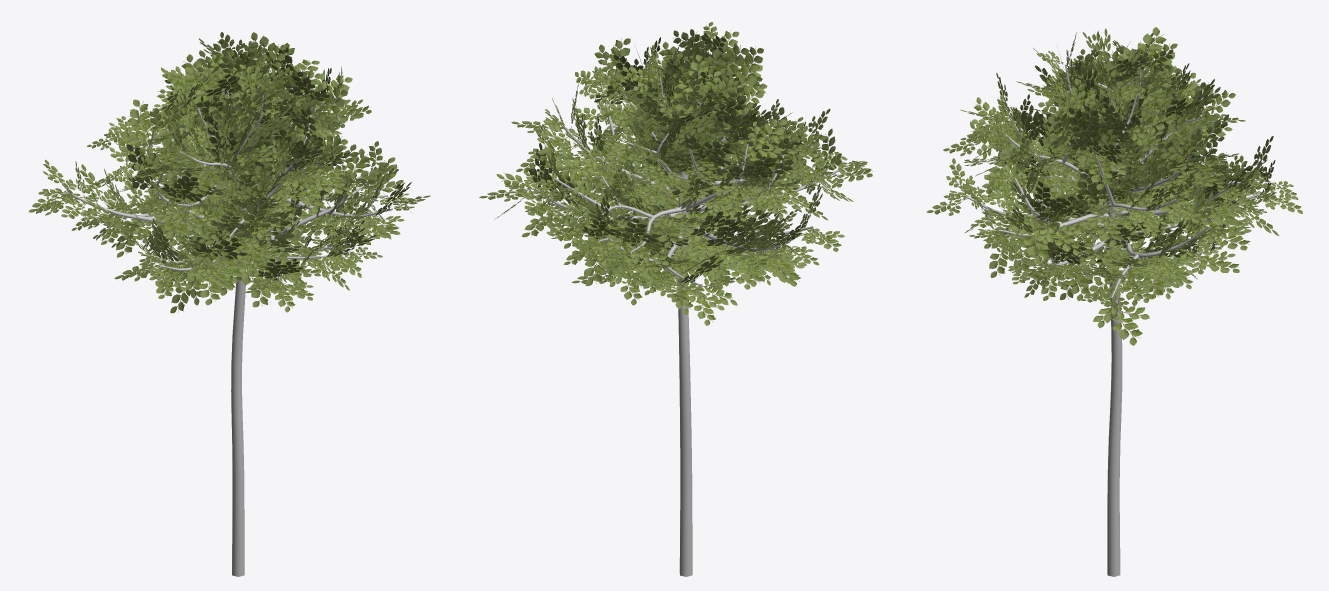
File: LOD0_Tree01.obj
The picture shows the model from 3 angles, left to right: view 1: azimuth 30°, elevation 25°; view 2: azimuth 150°, elevation 25°; view 3: azimuth 270°, elevation 25°; orthographic projection. The views are drawn at different scales.
Visible parts, largest first — view 1: leaves.005, tree.001; view 2: leaves.005, tree.001; view 3: leaves.005, tree.001.
Part boxes in pixels (<box>): leaves.005: <box>28,32,430,313</box>; tree.001: <box>65,85,390,576</box>; leaves.005: <box>479,22,872,325</box>; tree.001: <box>534,51,842,576</box>; leaves.005: <box>926,27,1302,345</box>; tree.001: <box>965,62,1264,576</box>.
Size of the model in its own units: 11.02 by 15.75 by 10.23.
